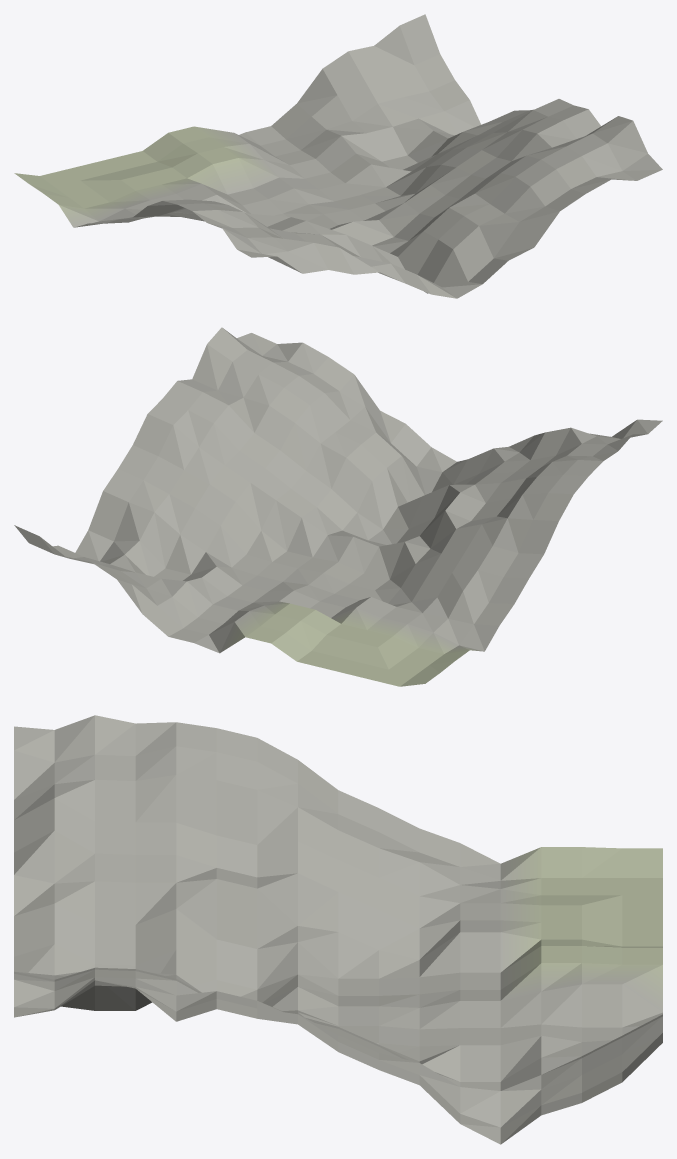
3 renders of one model, top to bottom at view 1: azimuth 30°, elevation 25°; view 2: azimuth 150°, elevation 25°; view 3: azimuth 270°, elevation 25°, orthographic. The views are drawn at different scales.
Size of the model in its own units: 32 by 9.26 by 32.
